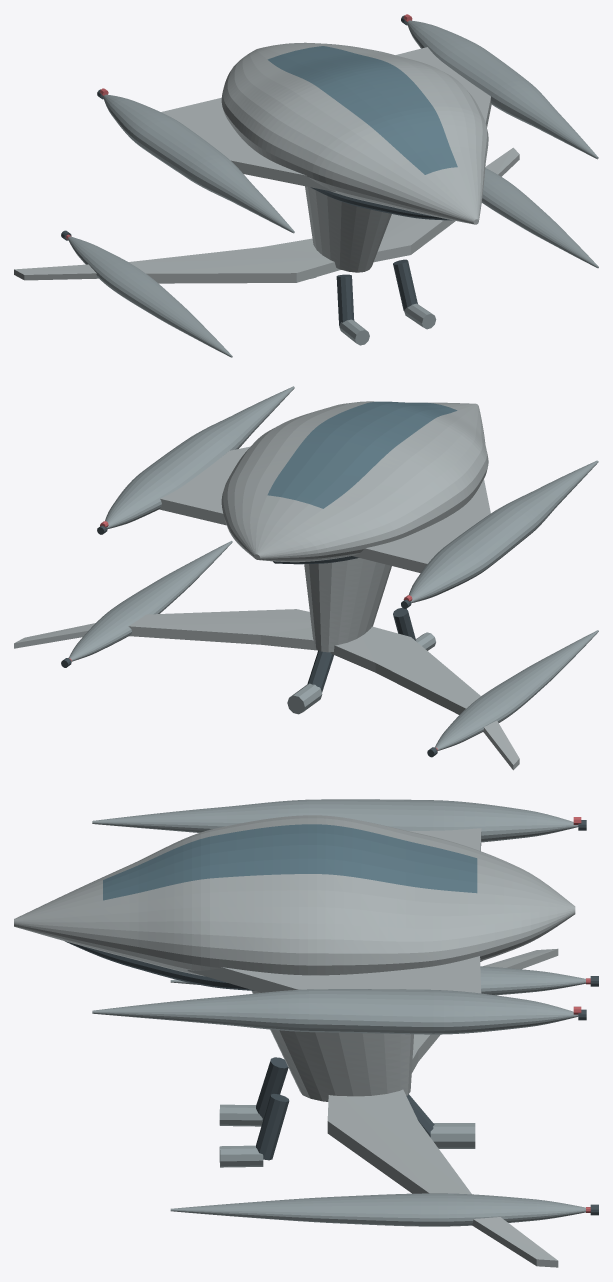
The model's file is arma_silver_landed.glb.
3 renders of one model, top to bottom at view 1: azimuth 30°, elevation 25°; view 2: azimuth 150°, elevation 25°; view 3: azimuth 270°, elevation 25°, orthographic. The views are drawn at different scales.
Parts seen in each view (by area): view 1: material_0, material_3, material_1, material_2; view 2: material_0, material_3, material_1, material_2; view 3: material_0, material_3, material_1, material_2.
Boxes of the visible parts, x1=… form: material_0: x1=14, y1=42, x2=519, y2=283; material_3: x1=67, y1=20, x2=598, y2=357; material_1: x1=267, y1=46, x2=457, y2=174; material_2: x1=61, y1=15, x2=453, y2=325; material_0: x1=14, y1=401, x2=519, y2=770; material_3: x1=68, y1=386, x2=598, y2=750; material_1: x1=267, y1=401, x2=457, y2=508; material_2: x1=61, y1=525, x2=437, y2=757; material_0: x1=14, y1=815, x2=575, y2=1267; material_3: x1=92, y1=799, x2=585, y2=1226; material_1: x1=103, y1=824, x2=477, y2=900; material_2: x1=65, y1=820, x2=598, y2=1215.
Size of the model in its own units: 4.8 by 2.17 by 3.81.
